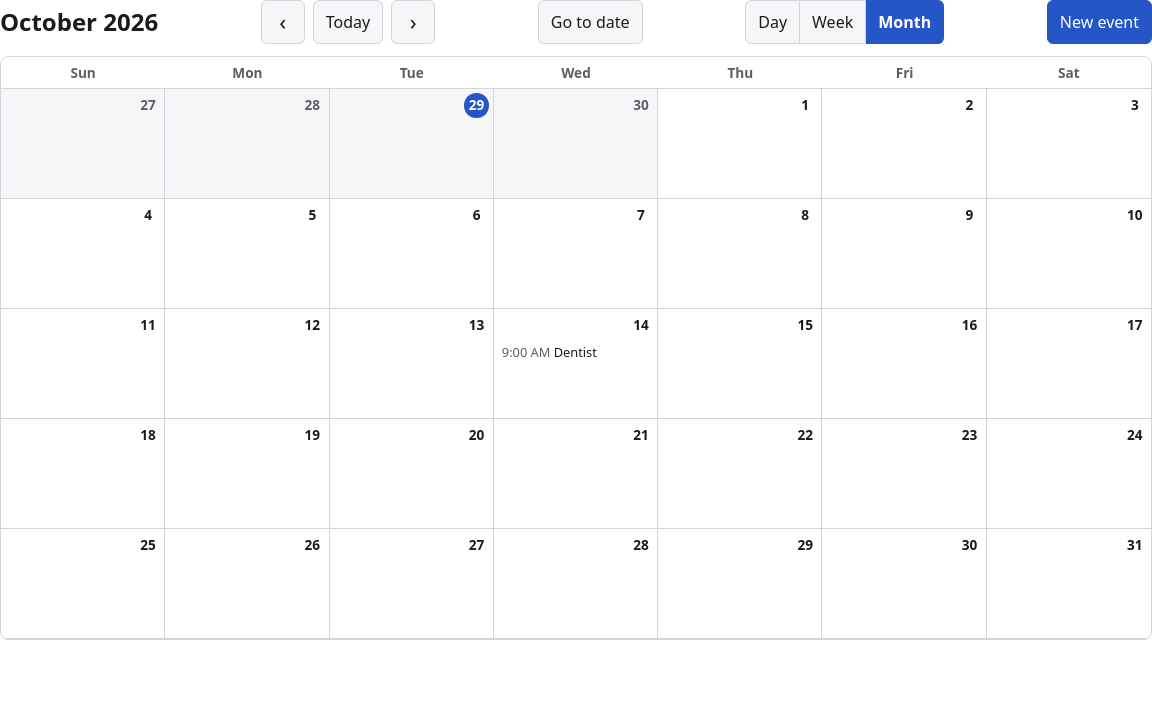
it: Deleting an event (US3) › deletes with the version, announces it, closes the dialogs and refreshes the month
Click the button with aria-label "Dentist," at (575, 352), box [498,342,653,362]
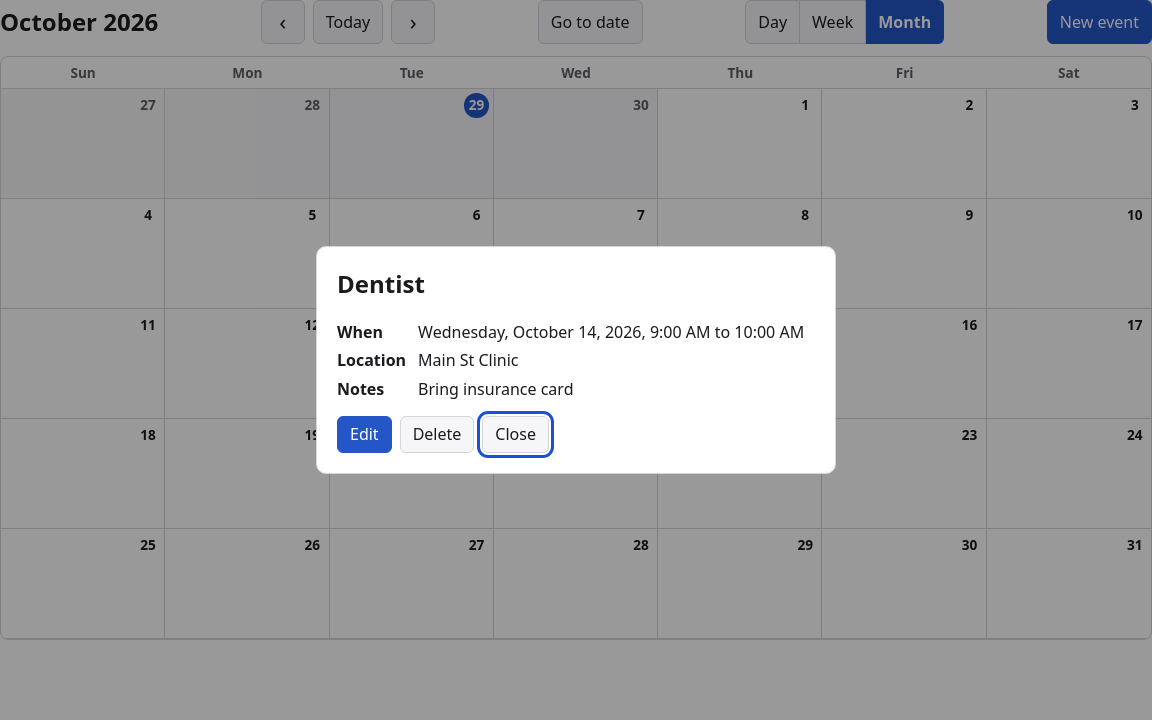
Click the button "Delete" at (437, 434), box [400,416,474,452]
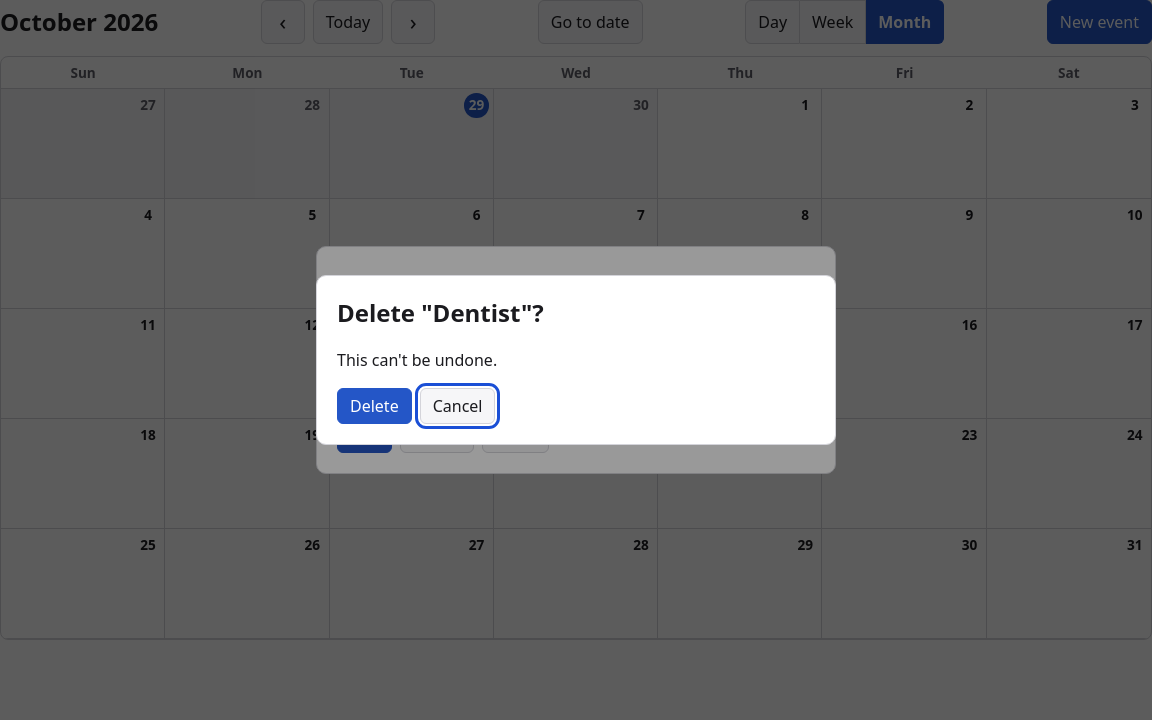
Click the button "Delete" at (374, 406), box [337,388,412,424]
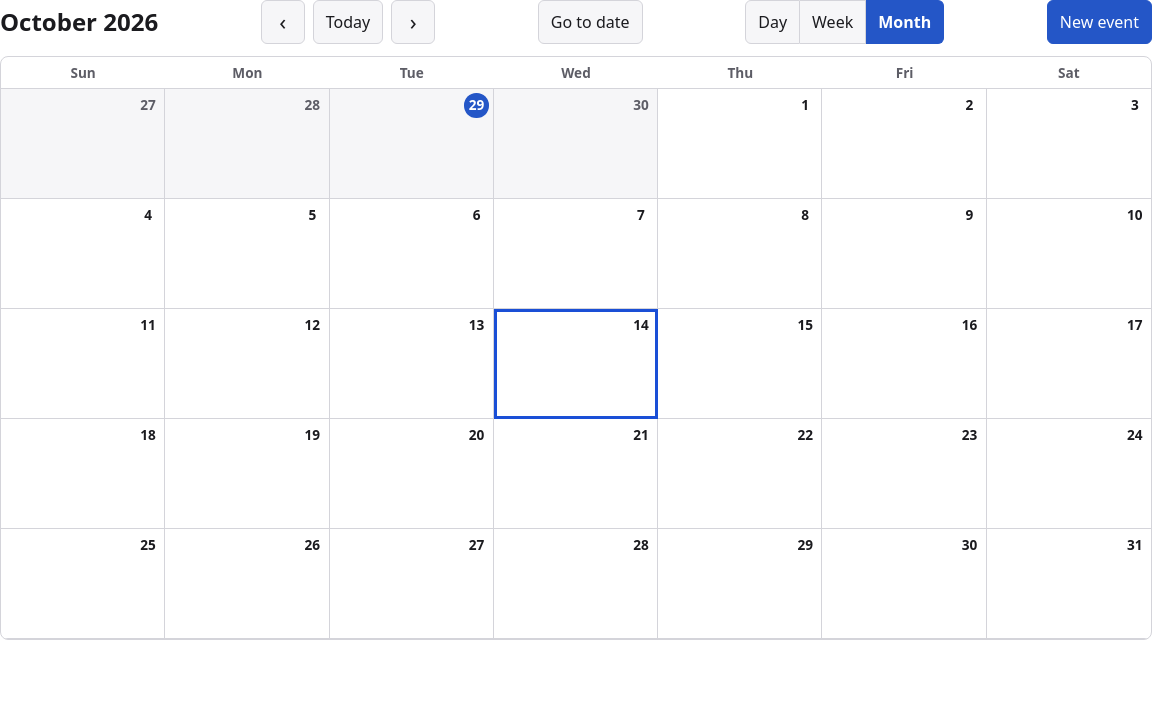
Now the dialog is gone
